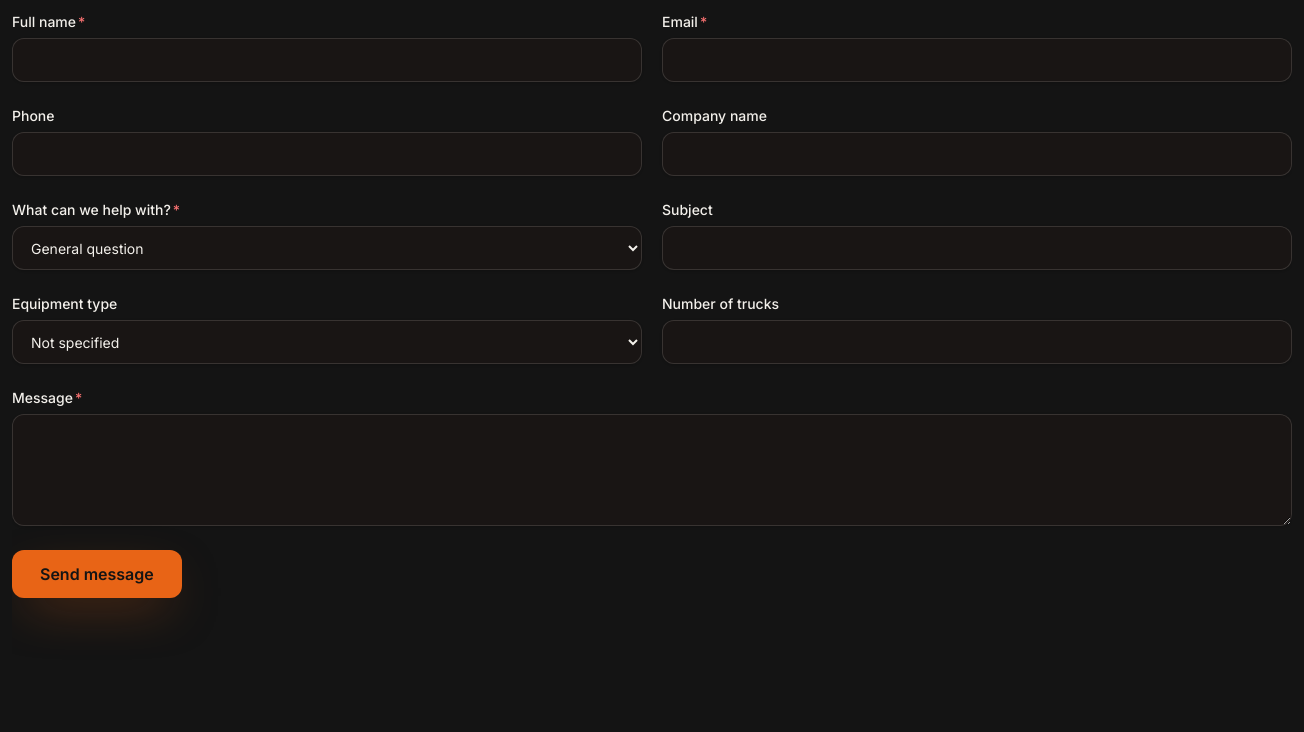
Scenario: ContactForm › sends the general inquiry type and no server-managed fields
Type "Jane Driver" into the field labelled "Full name*" at (327, 60), box [12, 38, 642, 82]
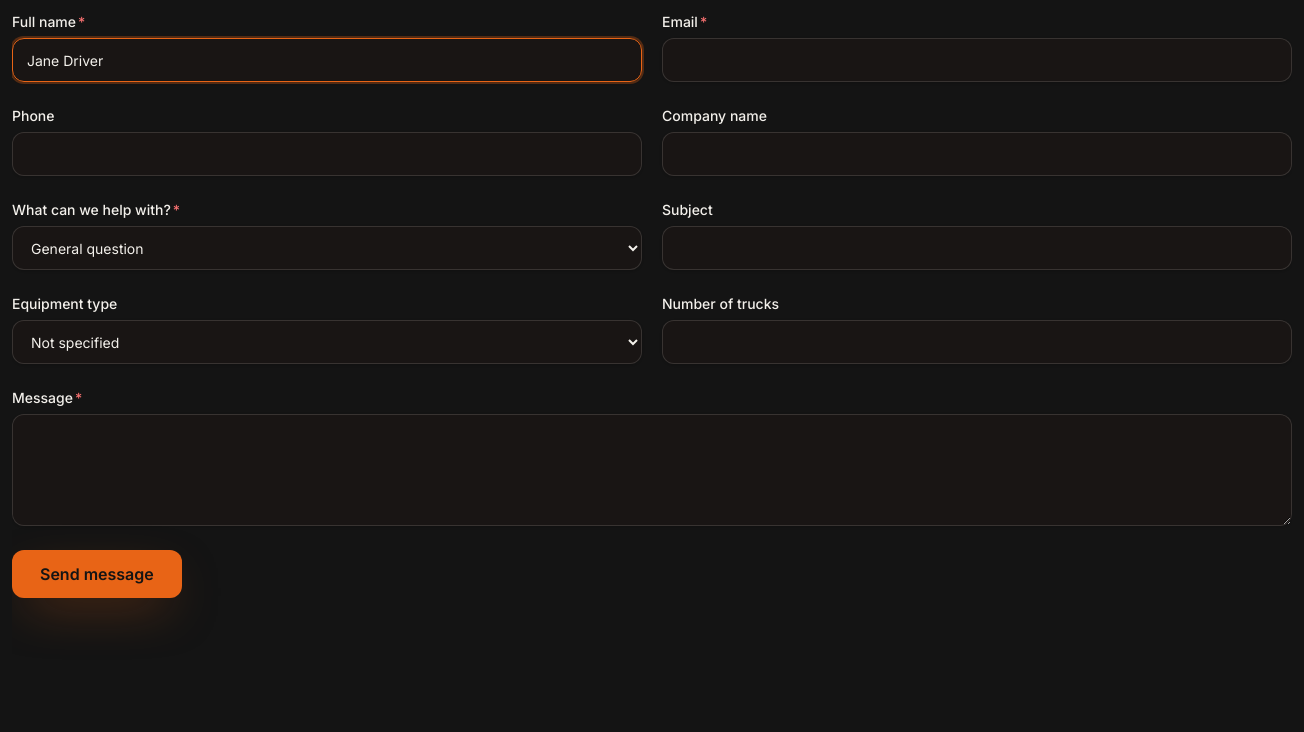
Type "jane@example.com" into the field labelled "Email*" at (977, 60), box [662, 38, 1292, 82]
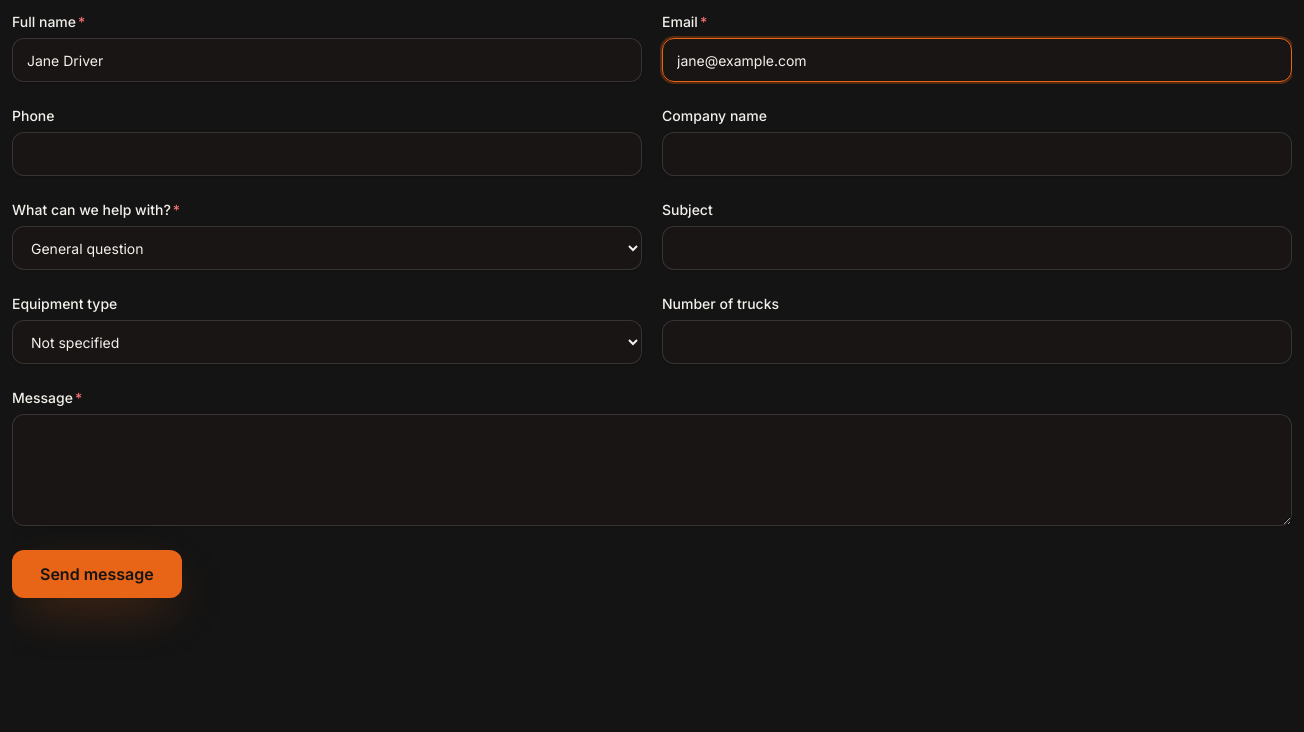
Type "Dispatch question" into the field labelled "Subject" at (977, 248), box [662, 226, 1292, 270]
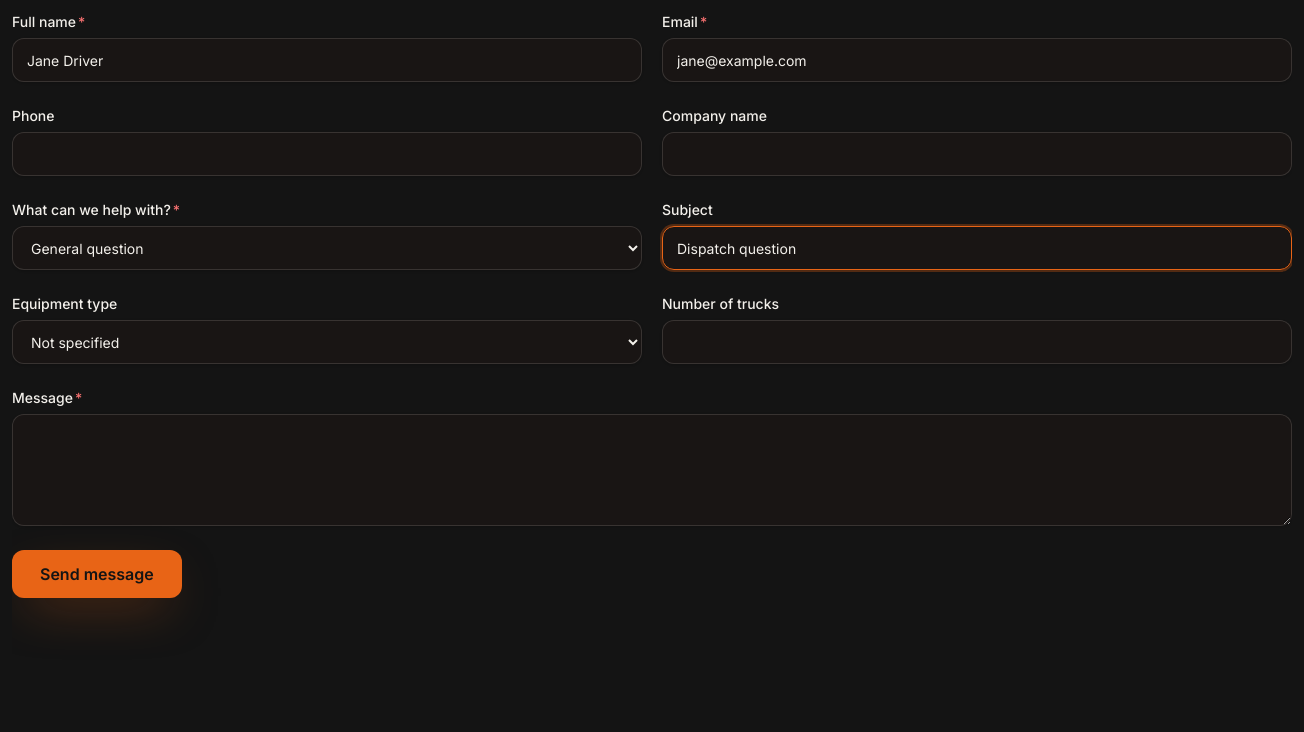
Type "I would like to know more about dispatch." into the text box labelled "Message*" at (652, 470), box [12, 414, 1292, 526]
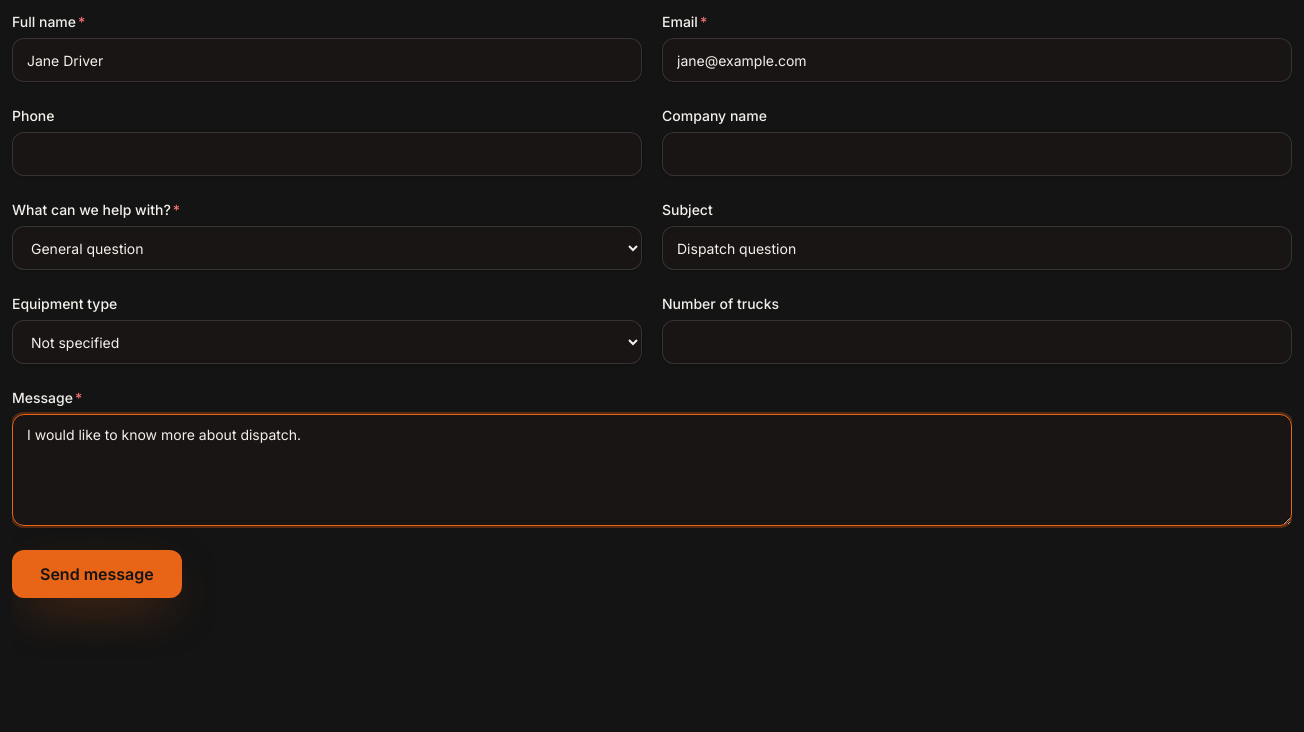
Click the button "Send message" at (97, 574), box [12, 550, 182, 598]
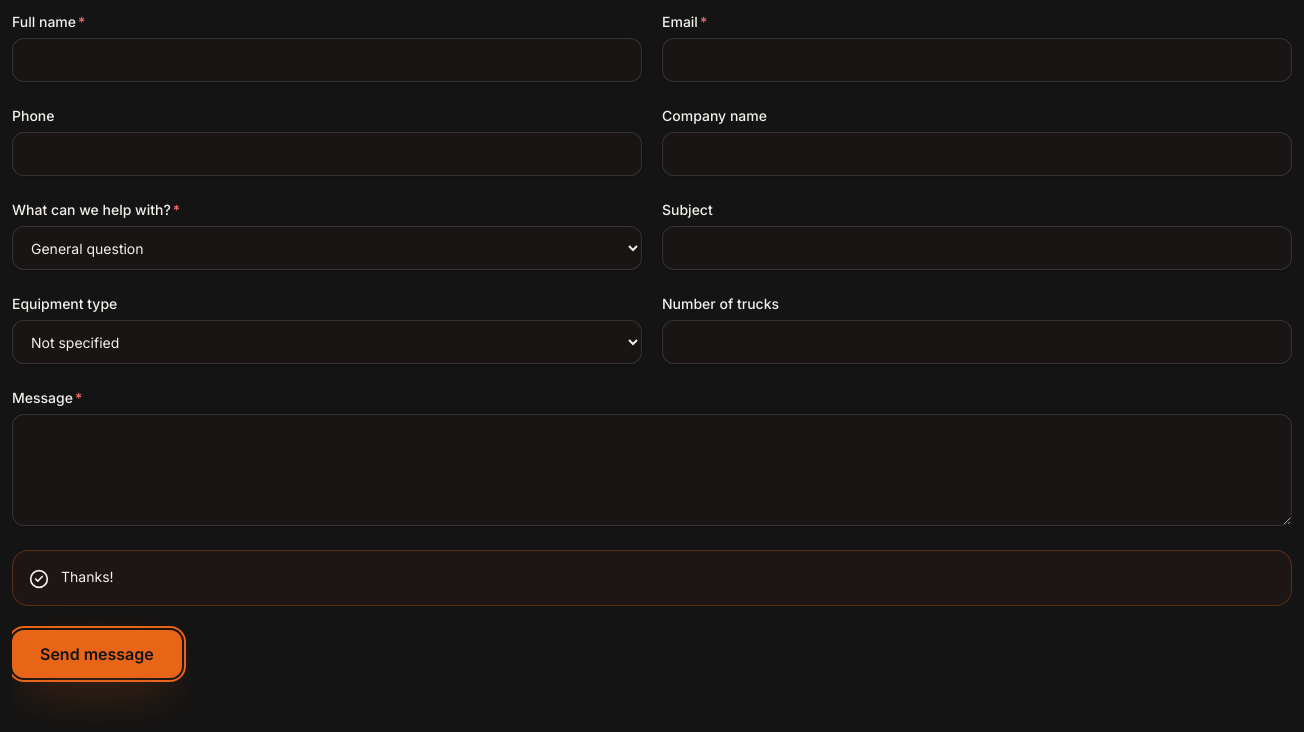
Check: the message "Thanks!" is shown, box [12, 550, 1292, 606]
